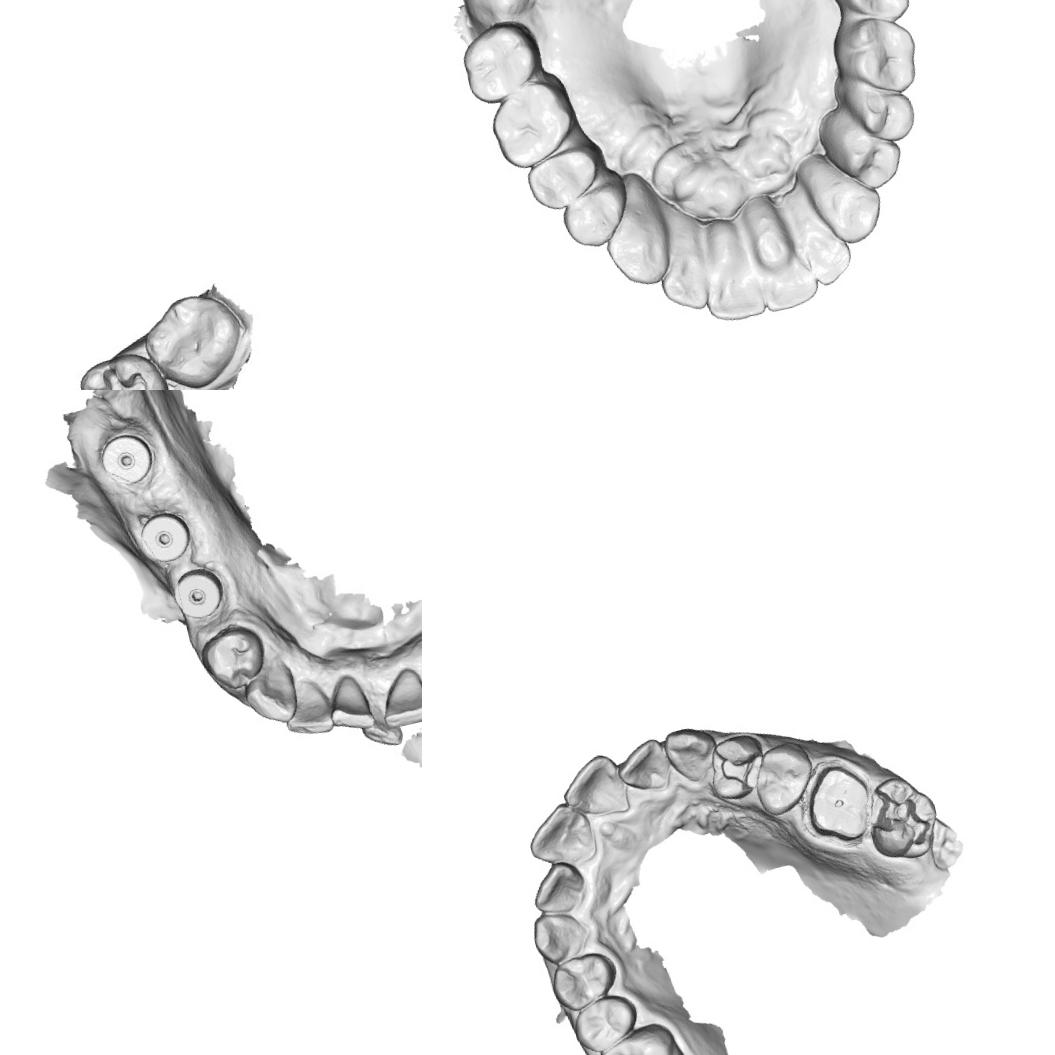canine: (590, 168, 678, 294), (806, 156, 890, 250), (235, 655, 306, 733), (527, 904, 597, 970), (660, 720, 725, 788)
crown: (790, 752, 884, 858)
implant: (132, 506, 196, 568), (168, 562, 230, 624), (97, 429, 157, 490)
incisor: (742, 191, 823, 314), (688, 212, 767, 328), (780, 180, 857, 292), (644, 198, 715, 318), (520, 796, 600, 874), (554, 748, 632, 826), (611, 734, 677, 801), (524, 855, 592, 920), (354, 694, 406, 754), (324, 673, 375, 734), (283, 684, 334, 742), (381, 668, 422, 730)
inlay: (865, 778, 936, 856), (715, 743, 769, 797), (76, 358, 153, 390)
molar: (134, 280, 254, 390), (481, 68, 584, 176), (827, 10, 925, 106), (453, 14, 550, 109), (588, 1017, 696, 1055), (817, 0, 915, 36)
premolar: (816, 100, 908, 200), (830, 62, 919, 152), (554, 165, 638, 252), (520, 139, 611, 216), (194, 620, 271, 702), (746, 737, 821, 819), (544, 946, 626, 1016), (567, 989, 644, 1055)
